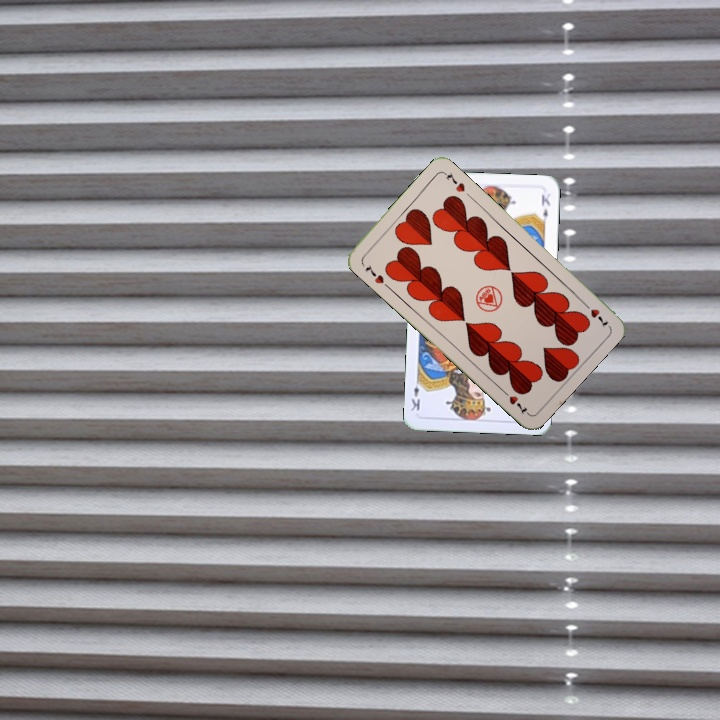H7: (579, 298, 610, 330), (361, 261, 392, 290)
